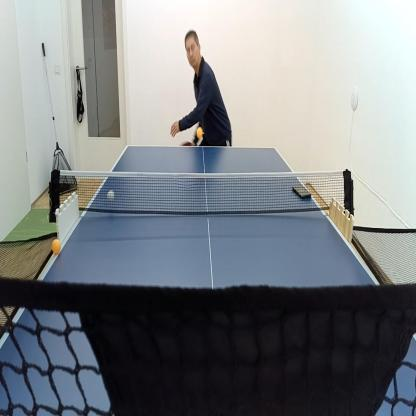Ball: (52, 239, 61, 254), (107, 189, 115, 202), (196, 125, 203, 138)
